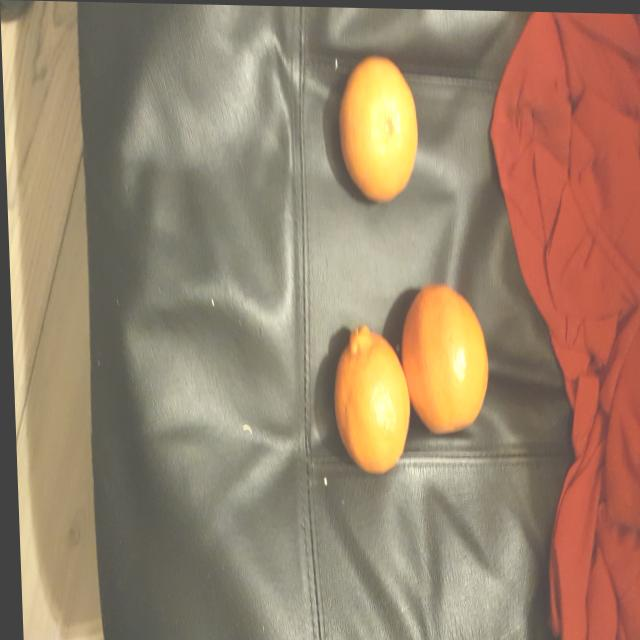Orange: (399, 282, 486, 434), (337, 54, 417, 202), (331, 324, 407, 474)
